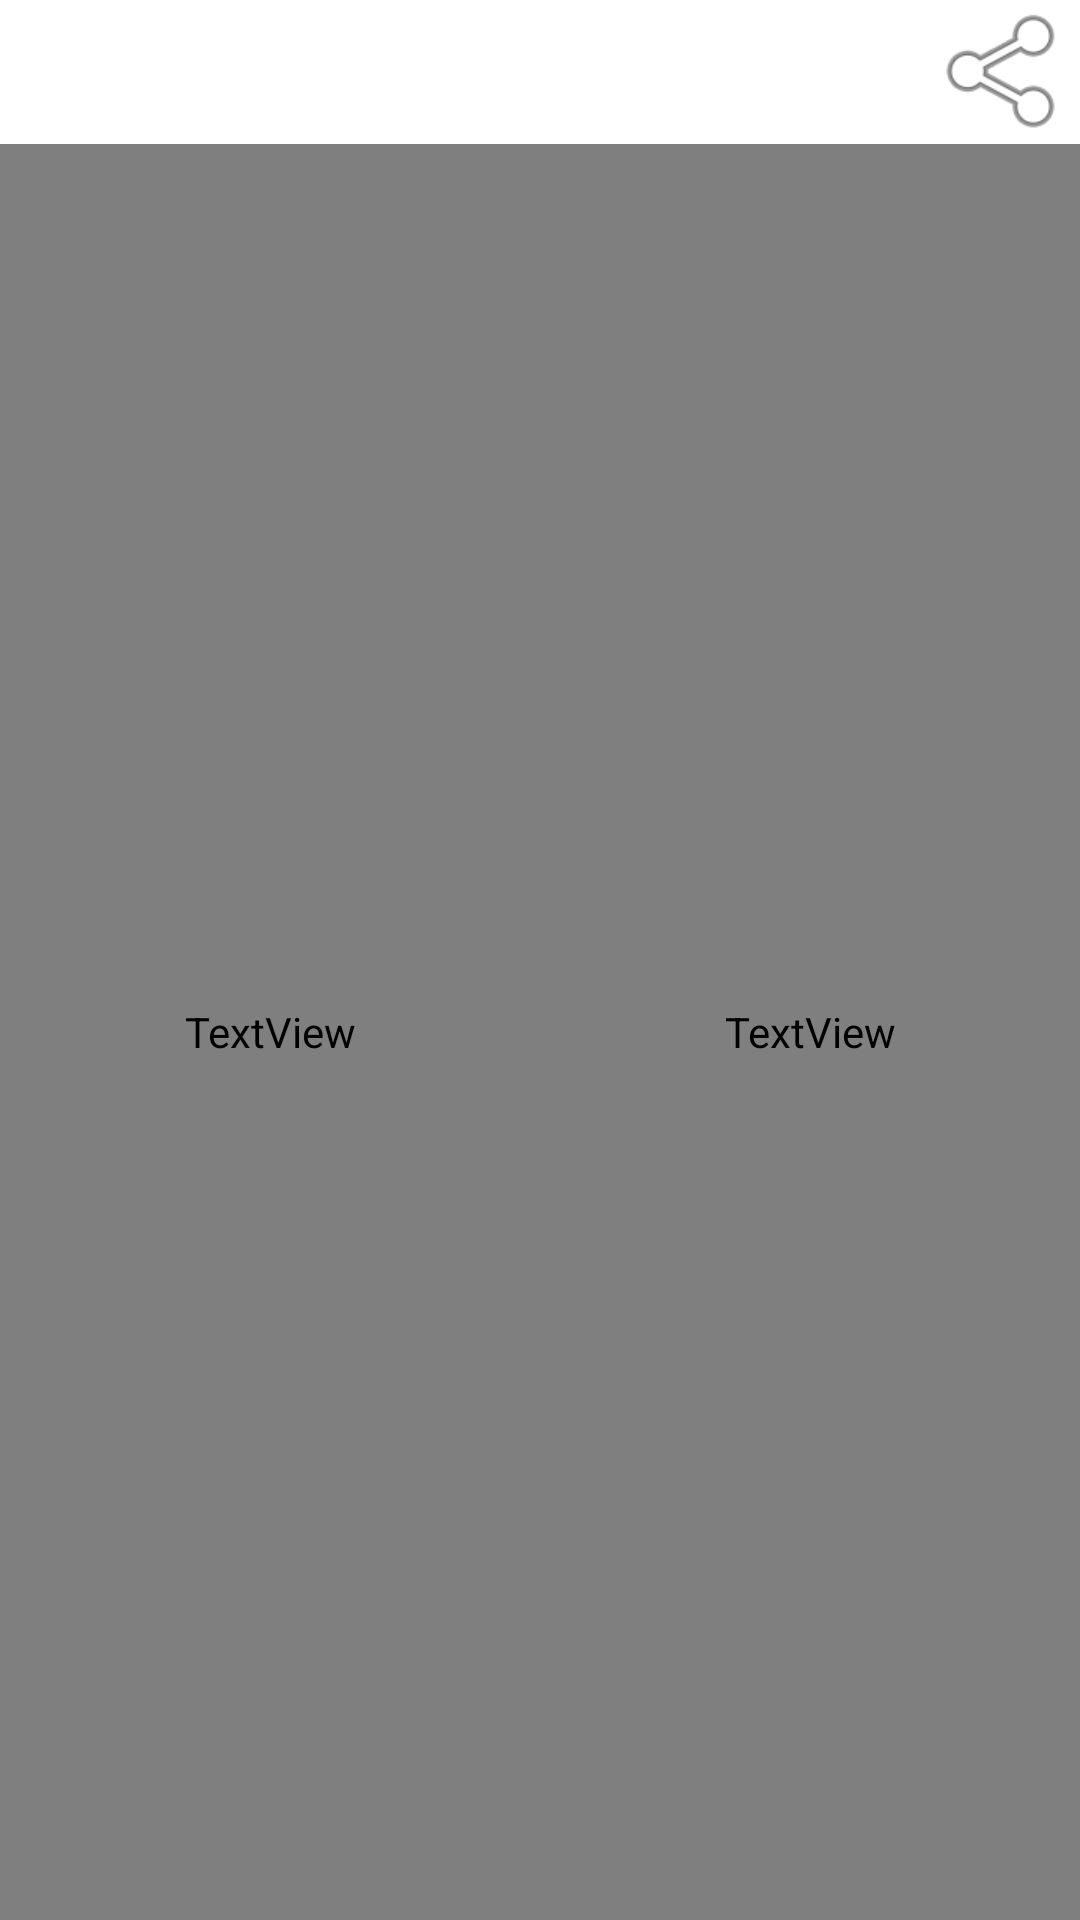

Point at icon controls on the screen. Image size 1080w x 1920h, points as [x,y].
condividi: [1000,71]
